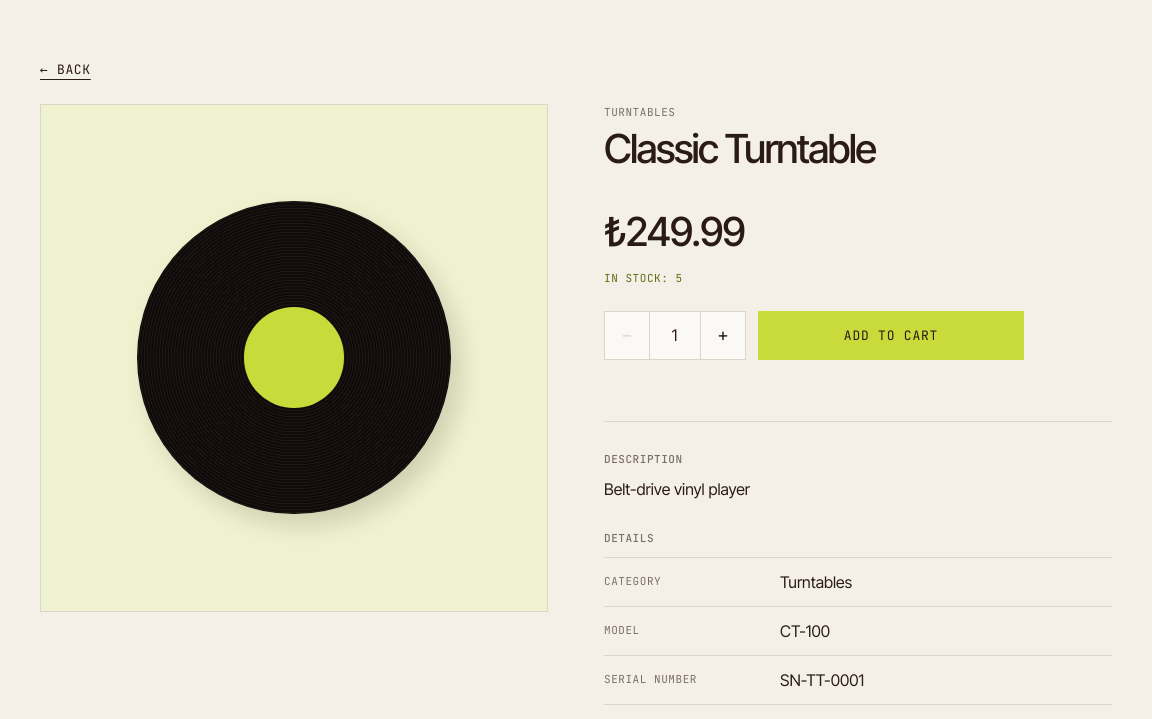
Scenario: ProductDetailPage › adds the chosen quantity to the cart
The width and height of the screenshot is (1152, 719).
Expected: the text "In stock: 5" is shown, [604,270,683,286]
Step 1. Click the button named "Increase quantity" → (723, 334), box [701,312,745,358]
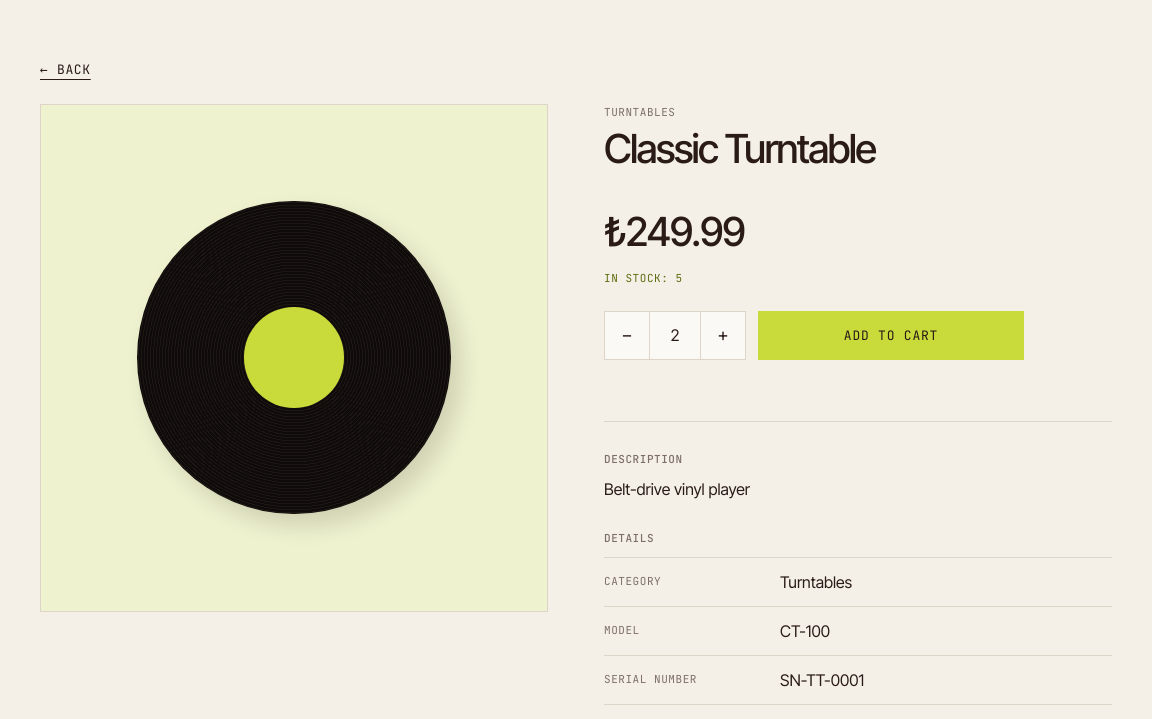
Step 2. Click the button "Add to cart" → (891, 335), box [758,310,1024,360]
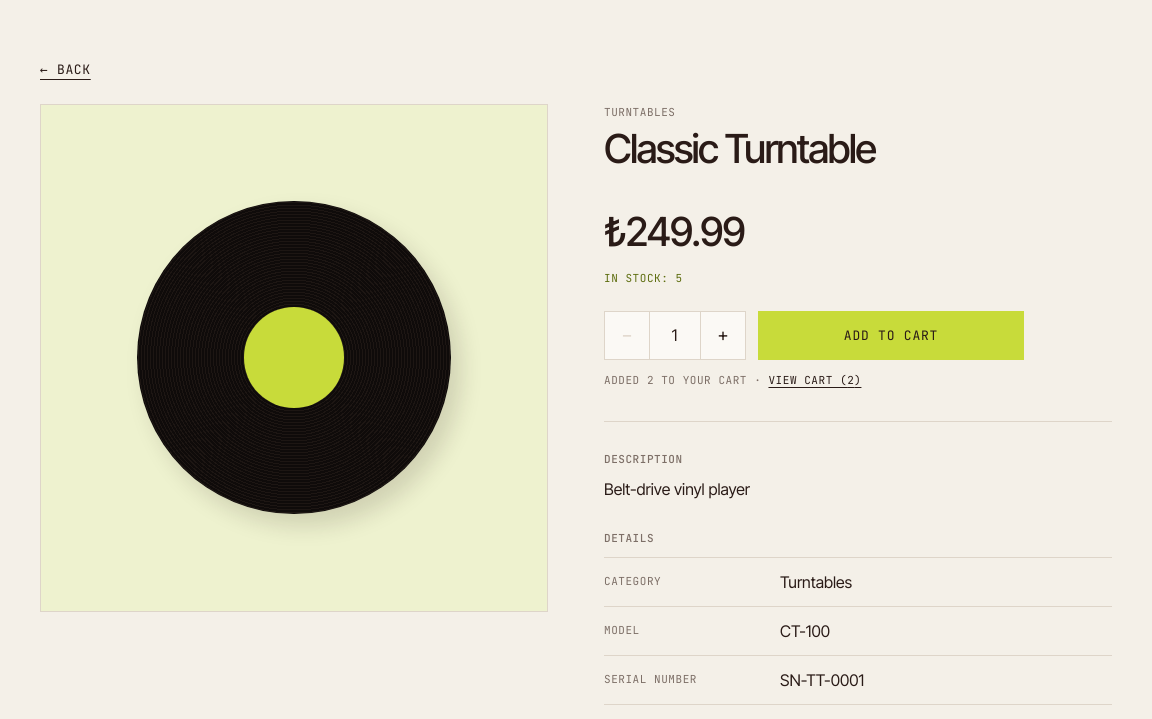
Expected: the text "Added 2 to your cart · View cart (2)" is shown, [604,373,861,387]
